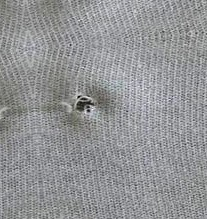hole: (69, 92, 99, 118)
